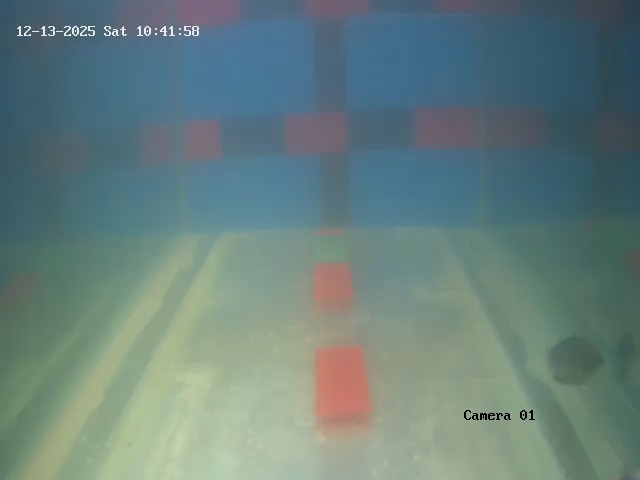fish: (550, 332, 600, 389)
